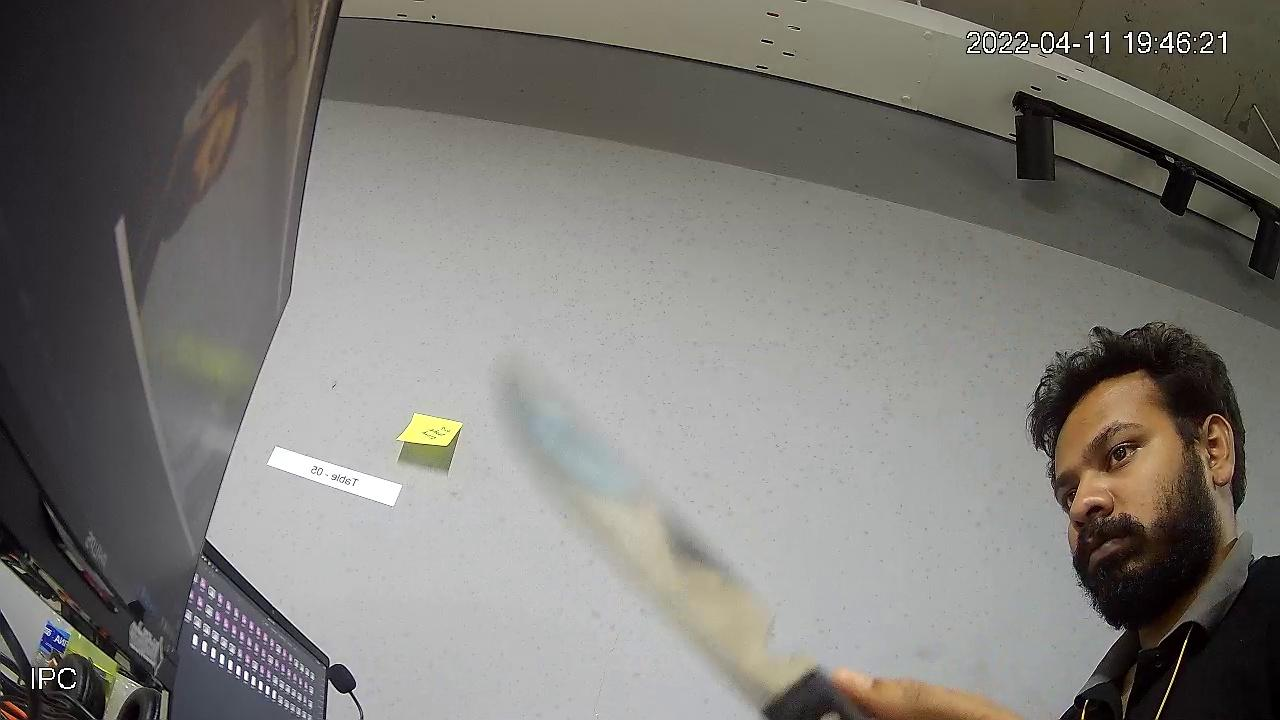knives: (480, 340, 839, 720)
